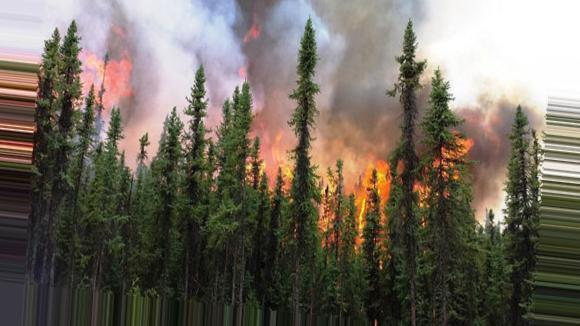fire: (225, 122, 473, 261), (70, 49, 137, 135)
